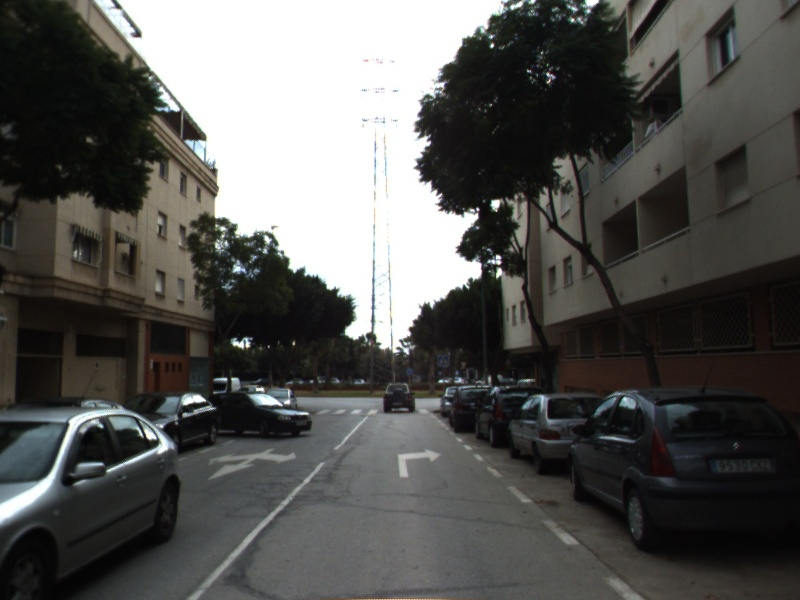RIGHT: (396, 446, 444, 479)
